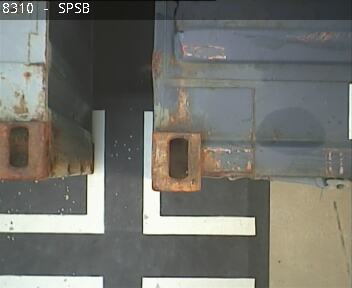groundmarker_1: (1, 112, 254, 234)
